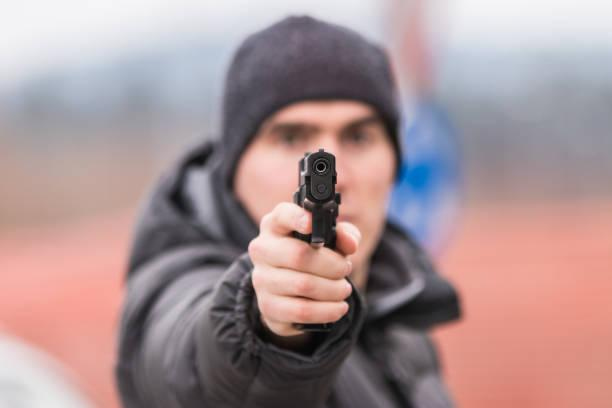weapon: (289, 149, 346, 251)
